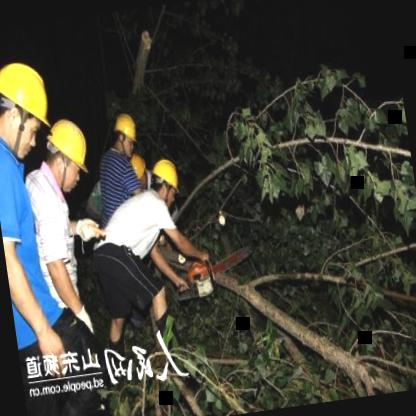helmet: (0, 55, 61, 165), (36, 110, 94, 193), (146, 150, 184, 209), (106, 107, 142, 160), (126, 151, 153, 194)
